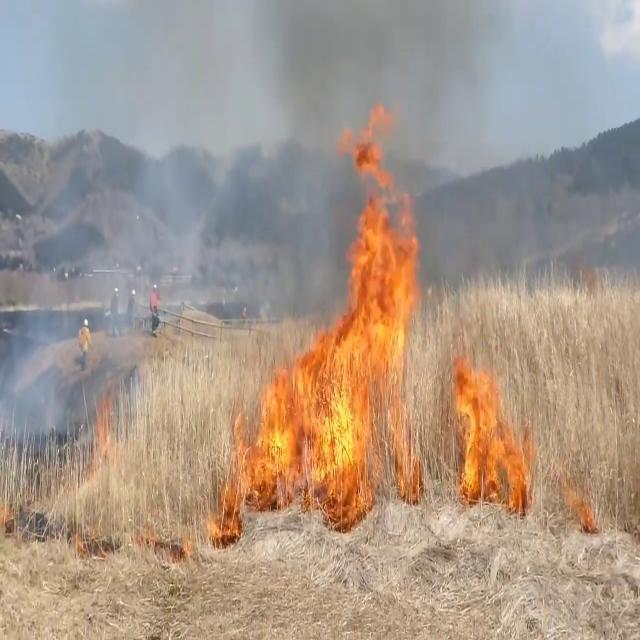Fire: (249, 108, 426, 502), (449, 346, 529, 507)
Smoke: (4, 2, 368, 370)
